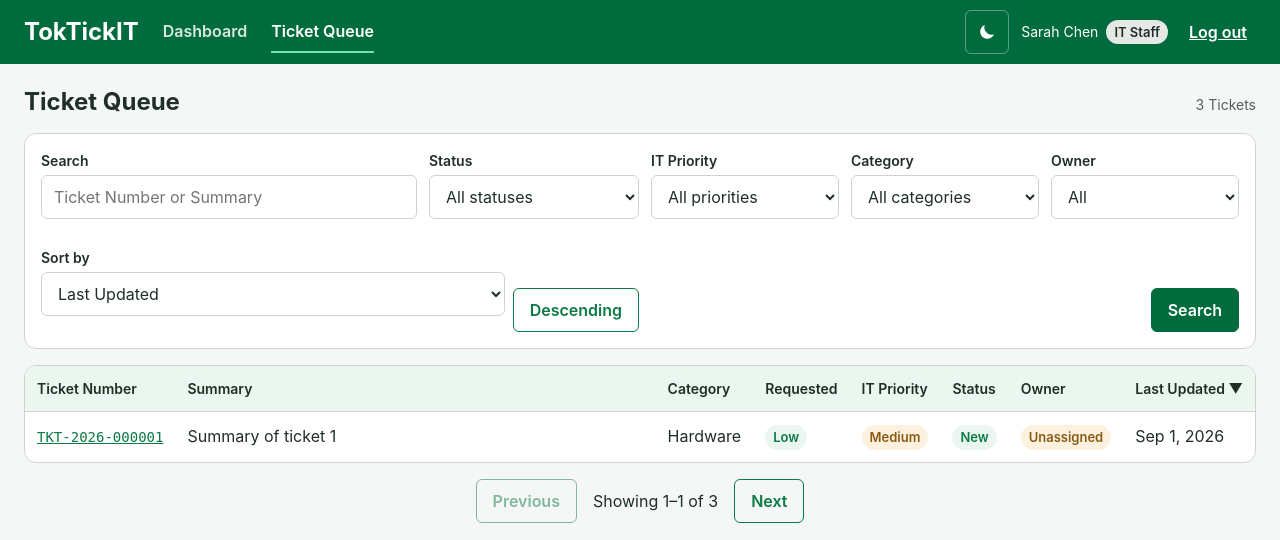
Test: UI-12 filters, sorting and paging (AC-24, AC-26, BR-30) › moves between pages and stops at both ends
The image size is (1280, 540).
Expected: the heading "Ticket Queue" is shown, [24,88,180,117]
Expected: the button "Previous" is disabled, [476,479,577,523]
Click the button "Next" at (769, 501), box [734,479,804,523]
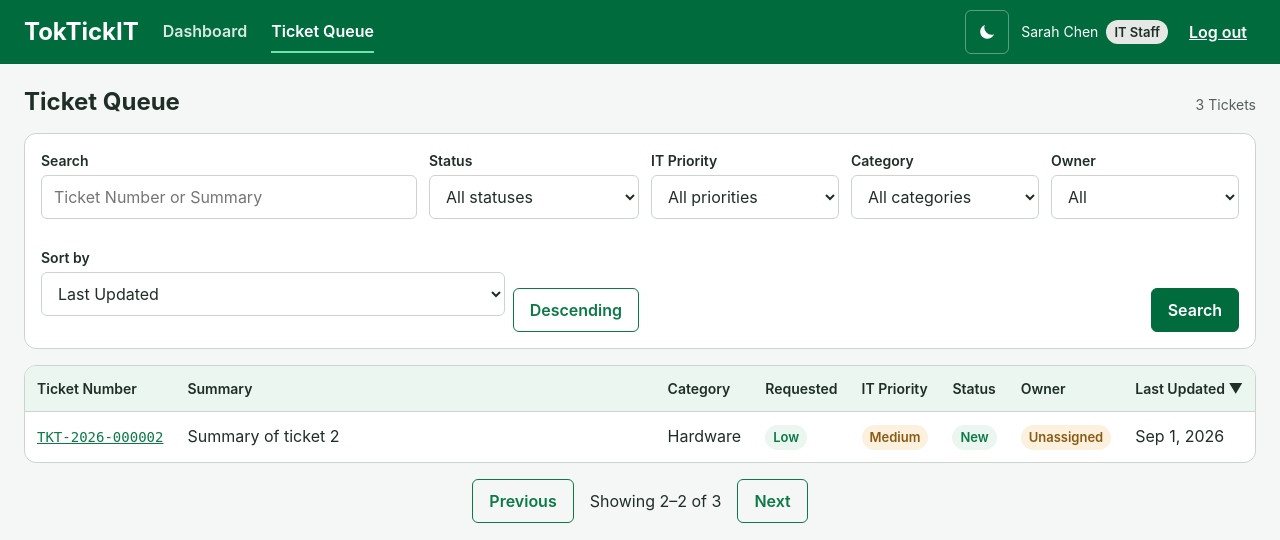
Expected: the text "Showing 2–2 of 3" is shown, [590,489,721,513]
Click the button "Next" at (773, 501), box [737,479,808,523]
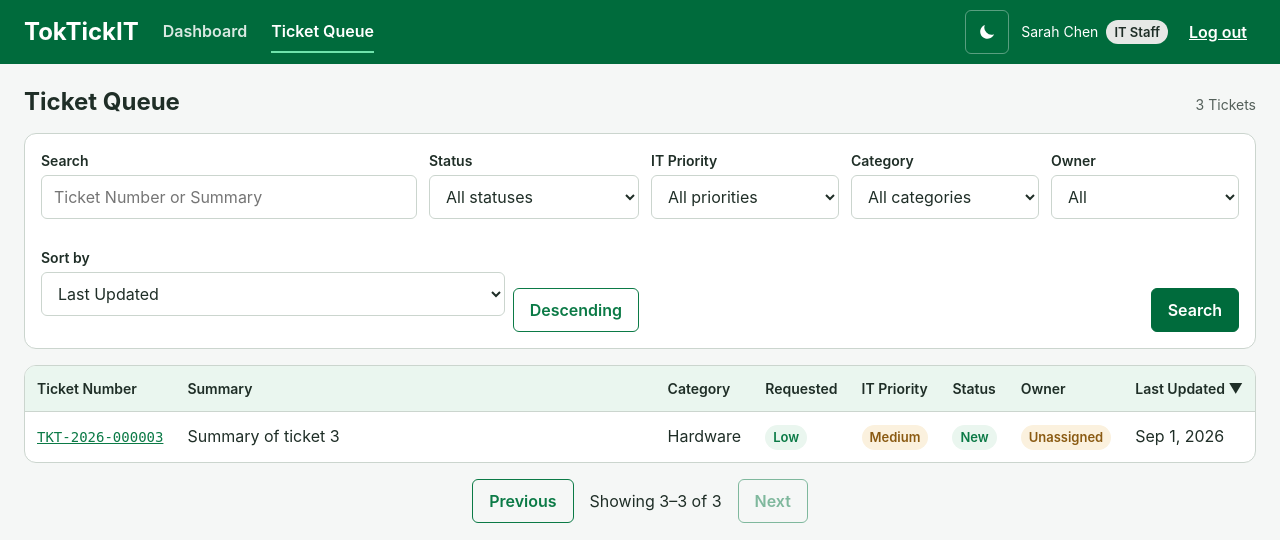
Expected: the text "Showing 3–3 of 3" is shown, [590,489,722,513]
Expected: the button "Next" is disabled, [738,479,808,523]
